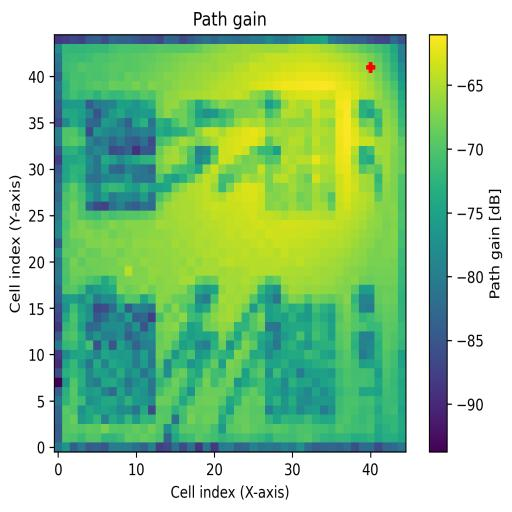Concrete: (265, 102, 336, 210)
Glass: (86, 100, 156, 211)
Metal: (265, 303, 336, 414)
Wood: (77, 295, 156, 425)
